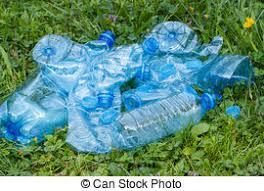Plastic bottle: (118, 89, 231, 143), (4, 82, 71, 141), (35, 27, 119, 74), (135, 58, 217, 85), (148, 22, 208, 56)
